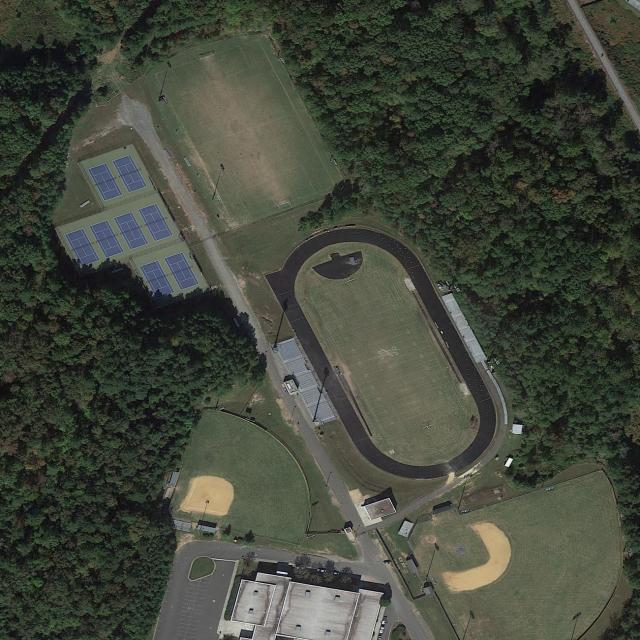small-vehicle: (381, 616, 389, 625), (317, 568, 327, 573), (379, 626, 385, 634), (331, 571, 340, 576), (295, 566, 304, 570), (384, 561, 392, 565)
